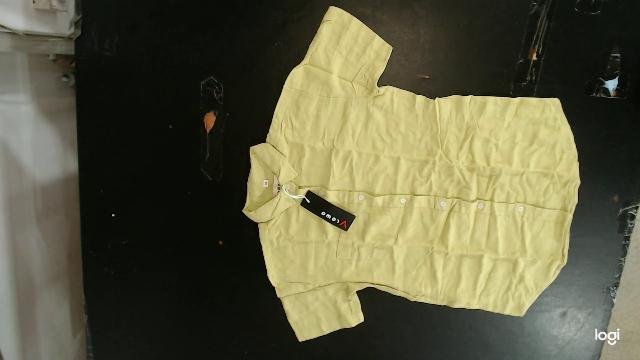new-garment: (243, 6, 580, 341)
